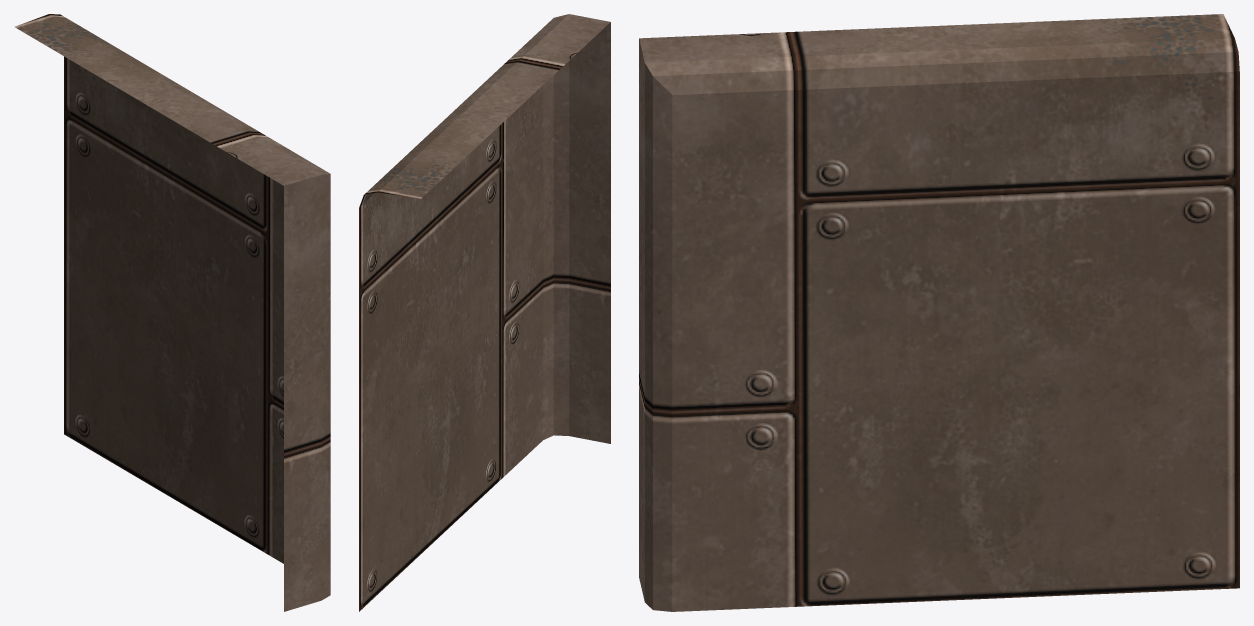
File: SM_MetalTileCorner.FBX
3 views of the same model, side by side, from view 1: azimuth 30°, elevation 25°; view 2: azimuth 150°, elevation 25°; view 3: azimuth 270°, elevation 25° (orthographic). The views are drawn at different scales.
Visible parts, largest first — view 1: SM_MetalTileCorner; view 2: SM_MetalTileCorner; view 3: SM_MetalTileCorner.
Boxes of the visible parts, bbox=[...] form: SM_MetalTileCorner: bbox=[14, 14, 330, 611]; SM_MetalTileCorner: bbox=[359, 14, 610, 611]; SM_MetalTileCorner: bbox=[639, 14, 1239, 611].
Bounding box in the file's own units: 10.25 × 44.15 × 44.55.
